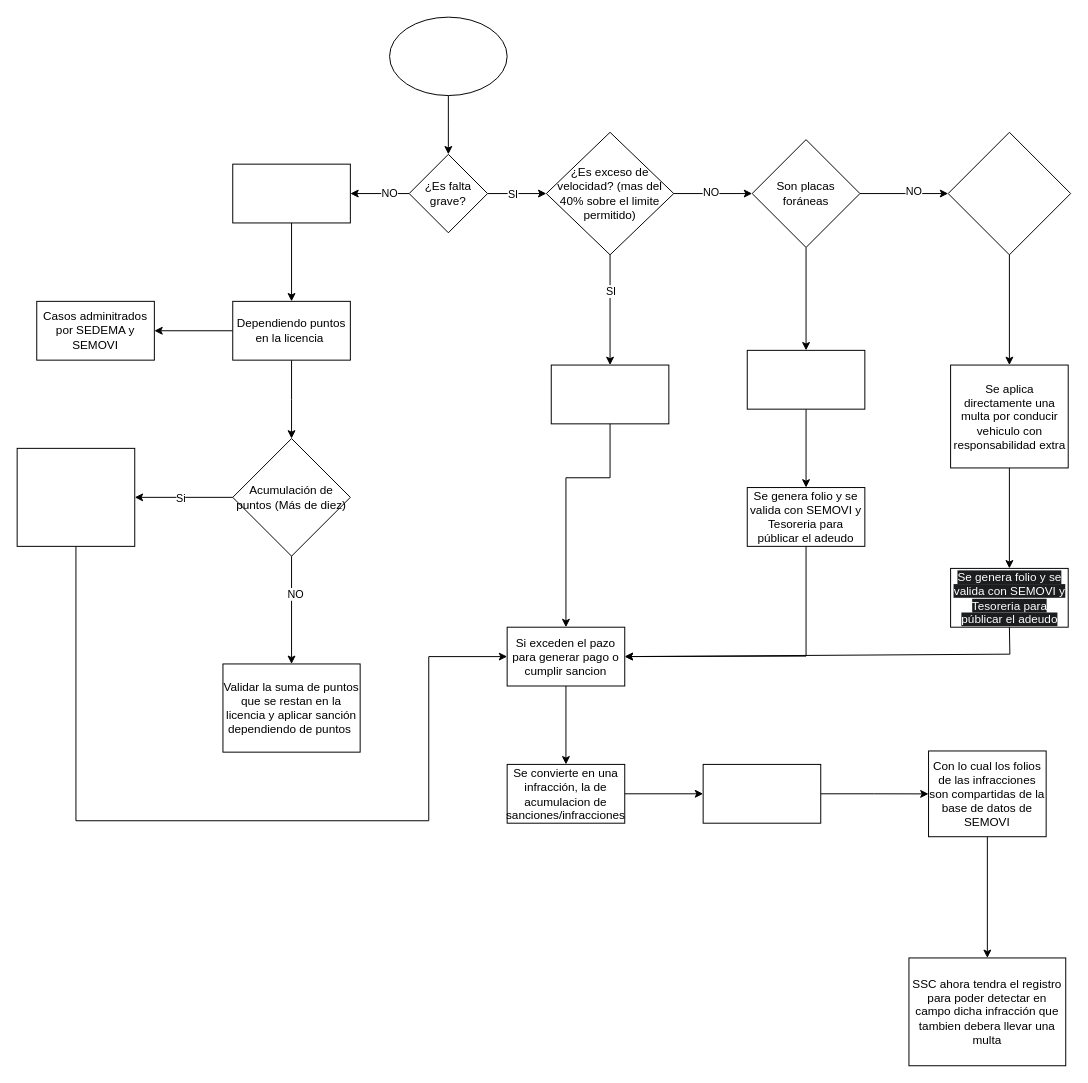
The diagram is 1088 pixels wide and 1083 high, and some of its shapes have lost their labels. The shapes that lost their labels are listed below. From the top down, each one's box as (x1, y1, x2, y2) in pixels, then its label:
(389, 16, 507, 96): Forocivicas
(232, 163, 350, 223): Solo se procede con sanciones cívicas
(947, 131, 1071, 255): ¿Es vehículo de carga?
(550, 364, 669, 424): Continuar con proceso de exceso de velocidad
(746, 349, 865, 409): Aplica directamente una multa
(16, 447, 135, 546): Continuar con el proceso de acumulación de infracciones y sanciones
(702, 763, 821, 823): Cuya detección es en campo por agentes de la SSC
